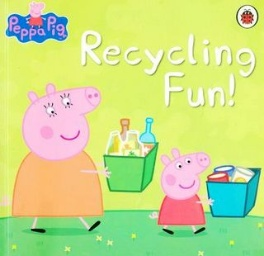Peppa: (148, 145, 215, 236)
